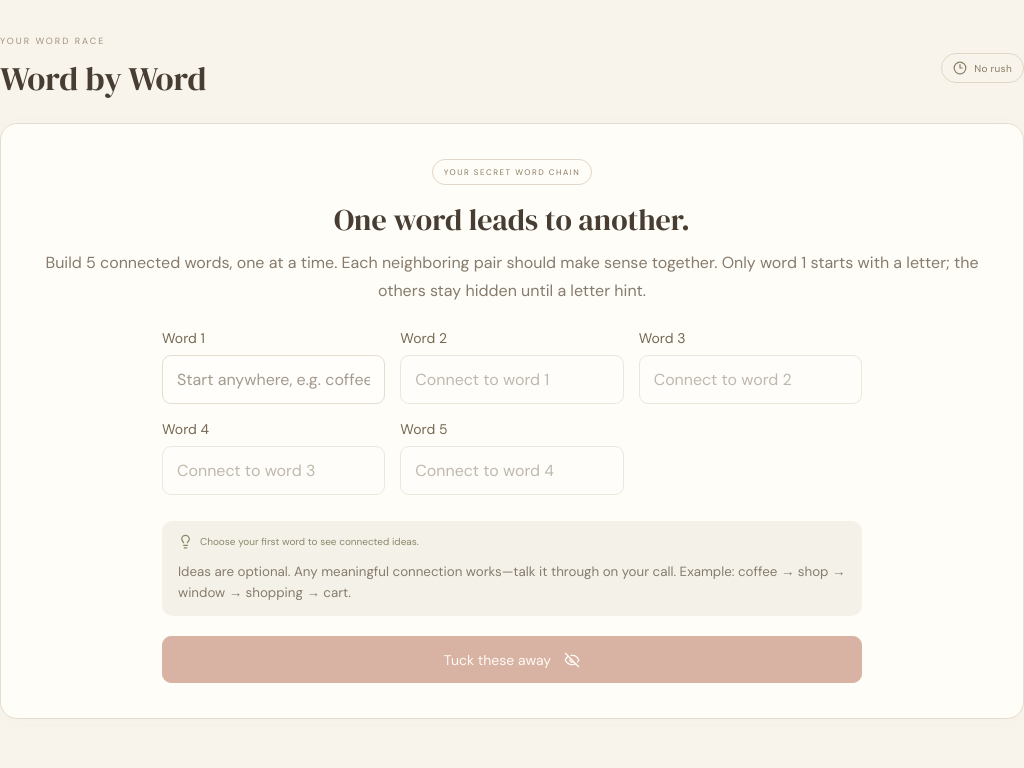
cozy home and game forms › updates suggestions immediately when a previous word is edited
The image size is (1024, 768).
In the field labelled "Word 1": (274, 379) [162, 355, 385, 404], type "coffee"
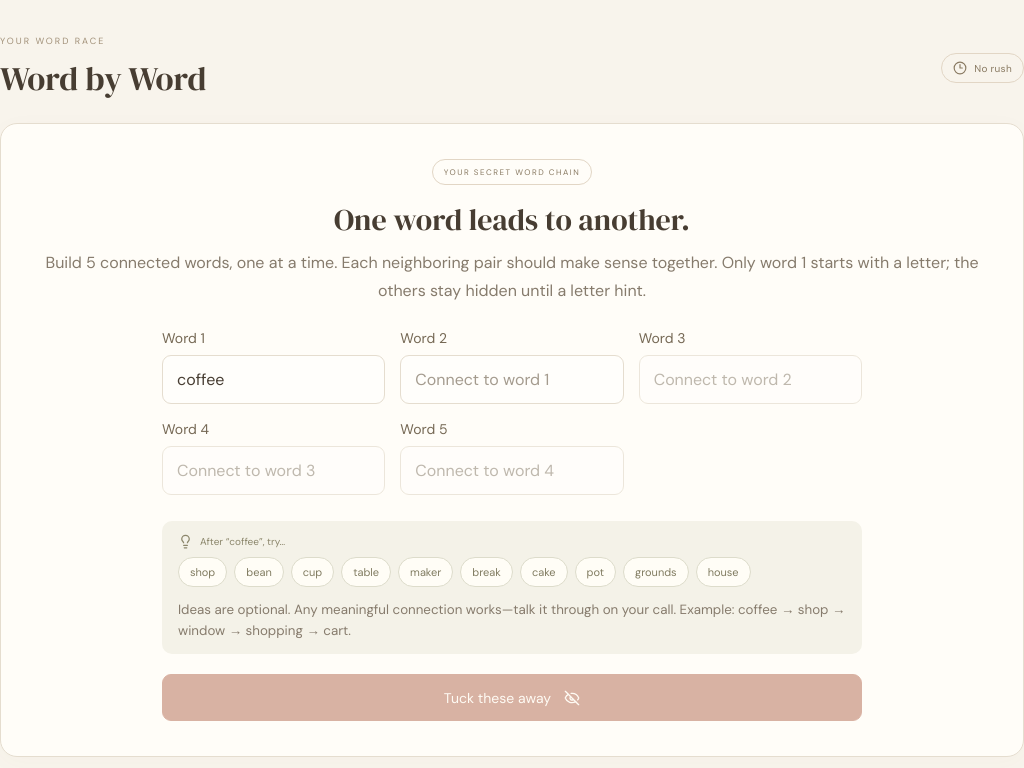
Check: the button "bean" is shown, box [234, 557, 284, 587]
Replace the text in the field labelled "Word 1" with "dog": (274, 379) [162, 355, 385, 404]
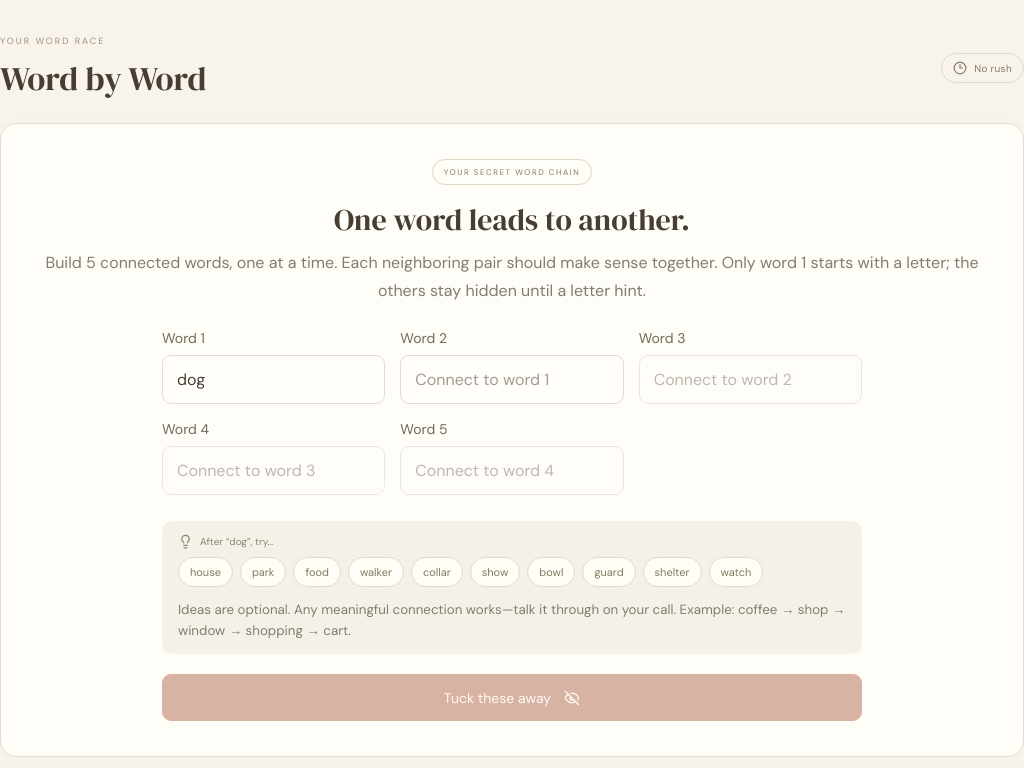
Check: the button "bean" is gone
Check: the button "walker" is shown, box [348, 557, 404, 587]
